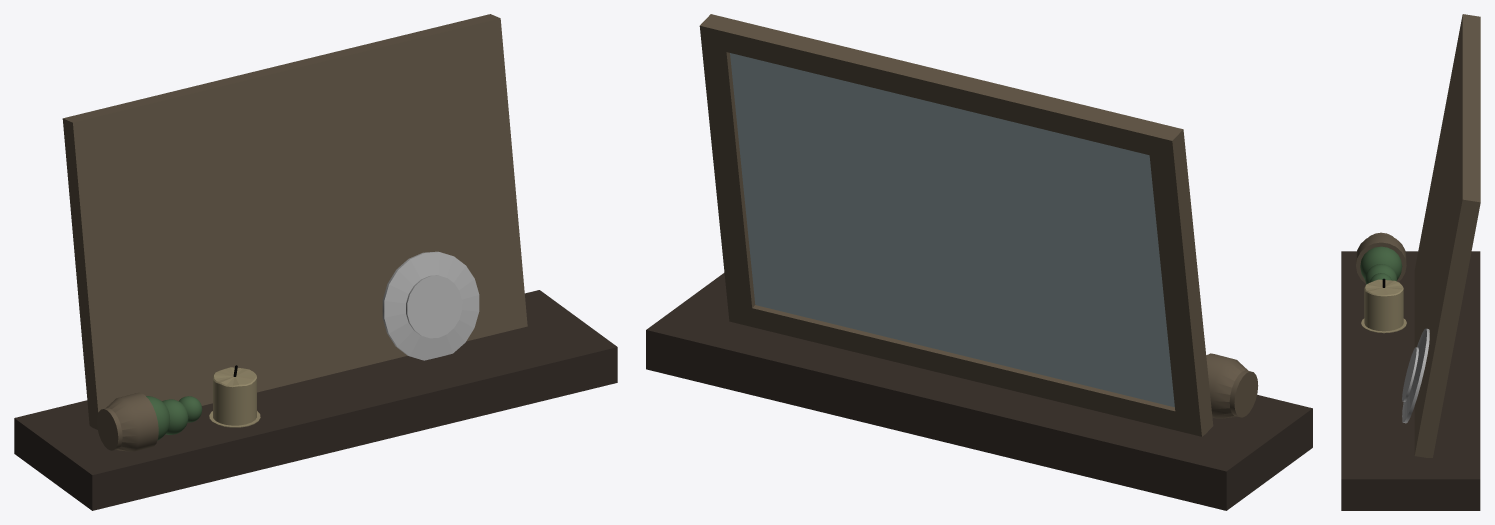
File: UnorganizedCounter.fbx
The picture shows the model from 3 angles, left to right: view 1: azimuth 30°, elevation 25°; view 2: azimuth 150°, elevation 25°; view 3: azimuth 270°, elevation 25°; orthographic projection. The views are drawn at different scales.
Visible parts, largest first — view 1: UnorganizedCounter; view 2: UnorganizedCounter; view 3: UnorganizedCounter.
Boxes of the visible parts, <box> form: UnorganizedCounter: <box>14,14,617,510</box>; UnorganizedCounter: <box>646,14,1312,510</box>; UnorganizedCounter: <box>1341,14,1480,510</box>.
Size of the model in its own units: 0.679 by 0.4031 by 0.1756.
